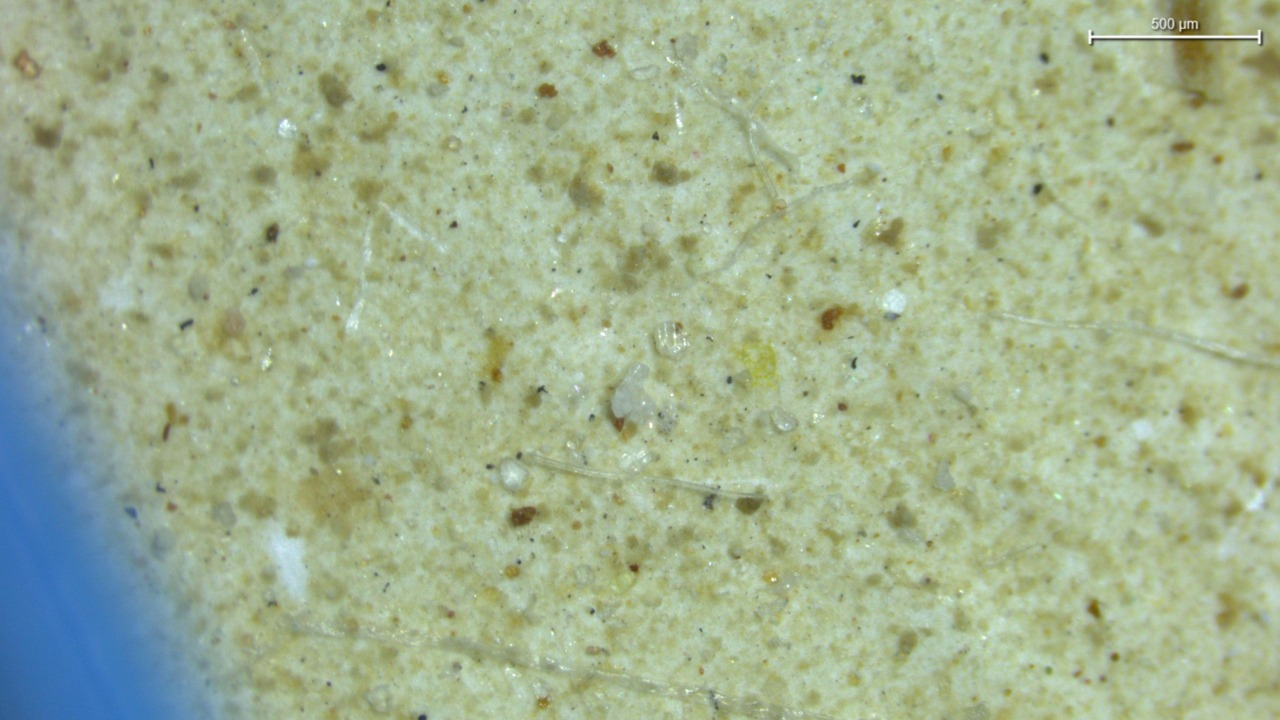microplastic_fragment: (611, 364, 671, 430), (653, 321, 690, 357), (500, 460, 528, 491), (769, 408, 798, 432)
